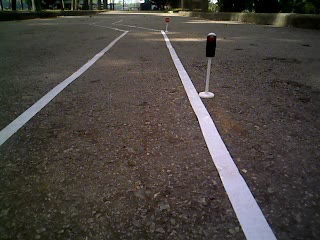Red: (203, 31, 221, 61)
